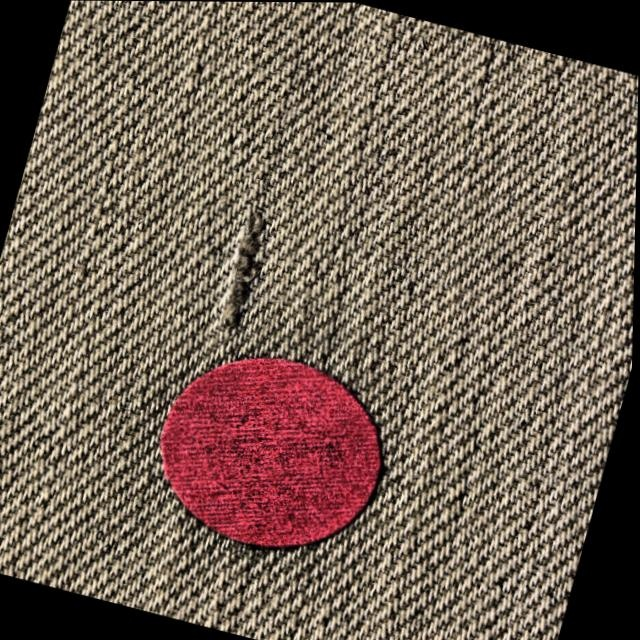Hole: (205, 191, 283, 340), (211, 206, 273, 338)
